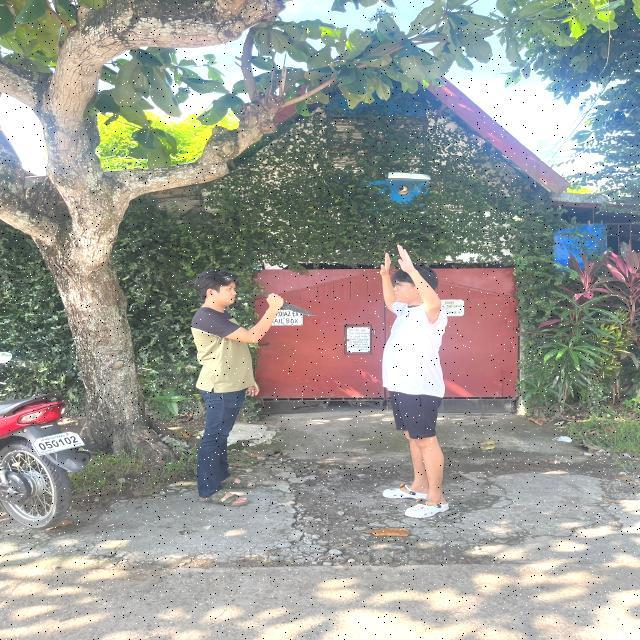knife: (264, 292, 315, 318)
non-violence: (192, 269, 317, 506), (380, 244, 450, 518)
